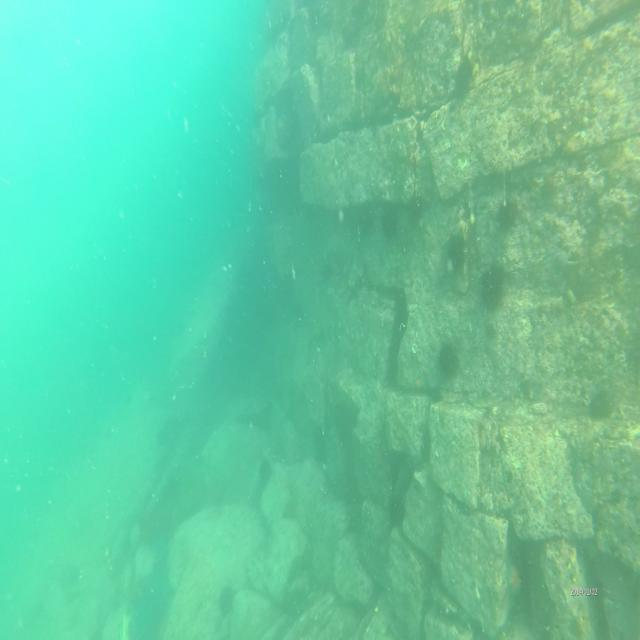echinus: (480, 258, 505, 308), (438, 338, 462, 381), (447, 228, 469, 268), (495, 198, 517, 230), (380, 200, 398, 236), (406, 190, 425, 223), (355, 203, 374, 234), (218, 585, 236, 616)
starfish: (505, 558, 525, 598)
